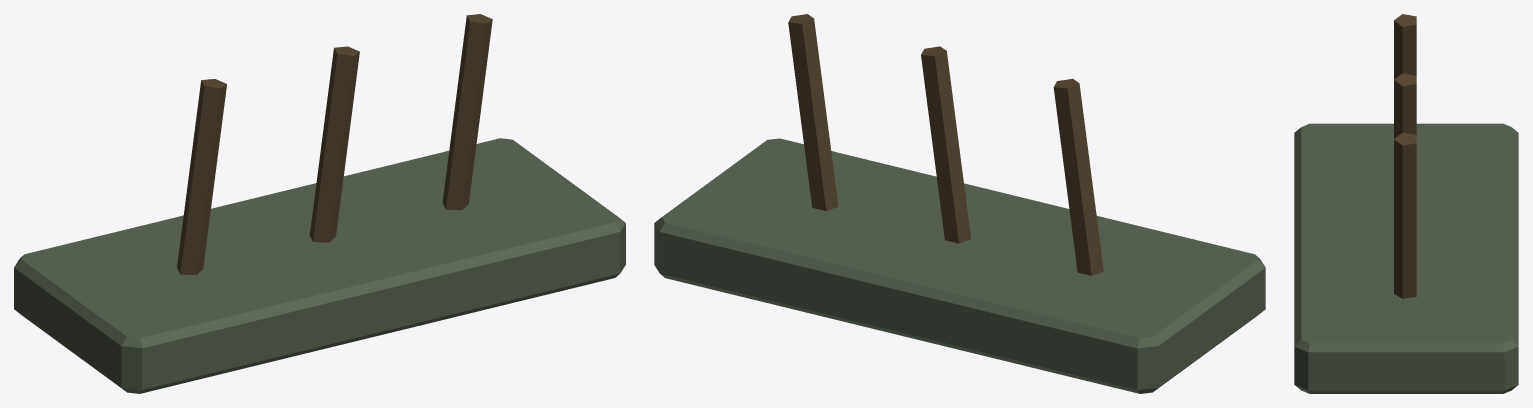
File: incense-tray.glb
3 views of the same model, side by side, from view 1: azimuth 30°, elevation 25°; view 2: azimuth 150°, elevation 25°; view 3: azimuth 270°, elevation 25° (orthographic). The views are drawn at different scales.
Parts seen in each view (by area): view 1: incense-tray__body; view 2: incense-tray__body; view 3: incense-tray__body.
Part boxes in pixels (bbox=[...]): incense-tray__body: bbox=[14, 14, 625, 393]; incense-tray__body: bbox=[654, 14, 1265, 393]; incense-tray__body: bbox=[1294, 14, 1518, 393].
Size of the model in its own units: 0.38 by 0.1712 by 0.16.
